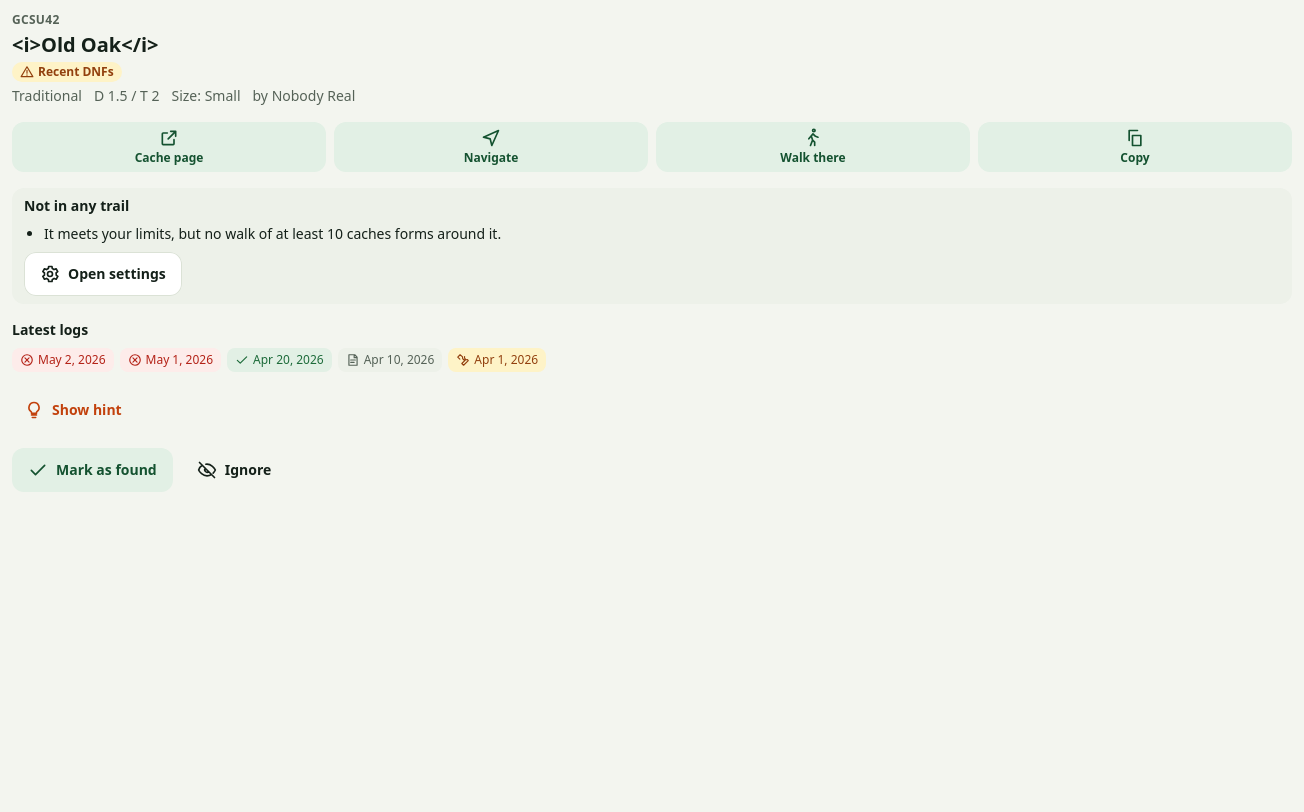
CacheDetails › says so when the browser refuses to copy
This screenshot has width=1304, height=812.
What coordinates should you click on to do the following:
click the button with aria-label "Copy coordinates"
I would click on:
 (1135, 147)
Its box is [978, 122, 1292, 172].
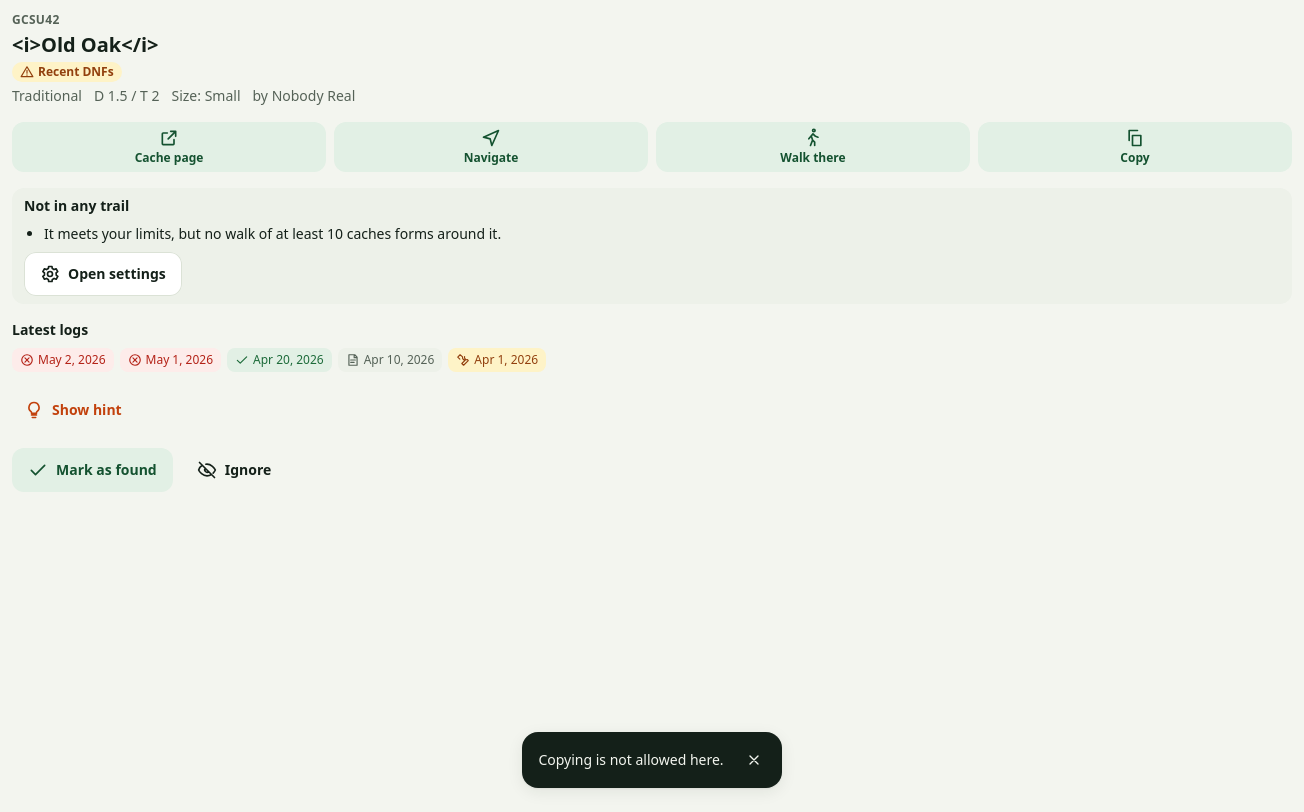
Result: the element with test id "toast" reads "Copying is not allowed here." at [538, 750, 724, 769]
